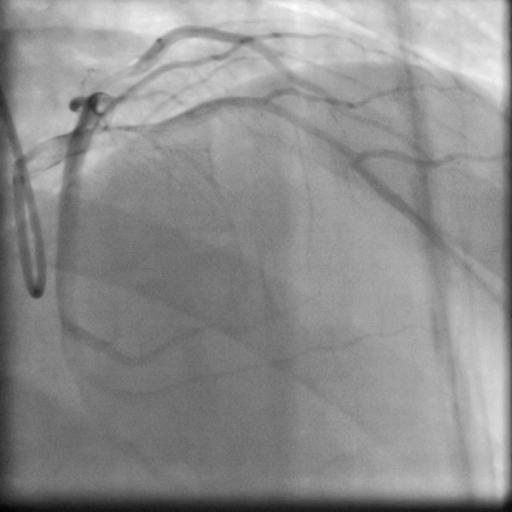Stenosis: (91, 63, 142, 88)
